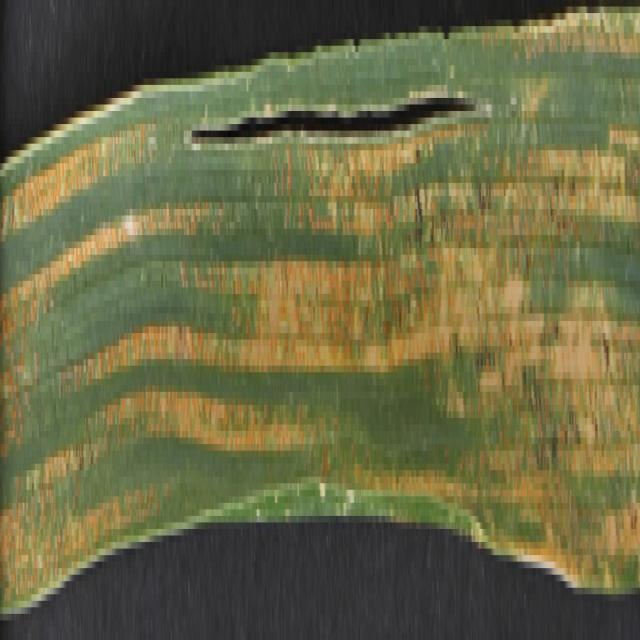leaf rust: (1, 13, 640, 601)
